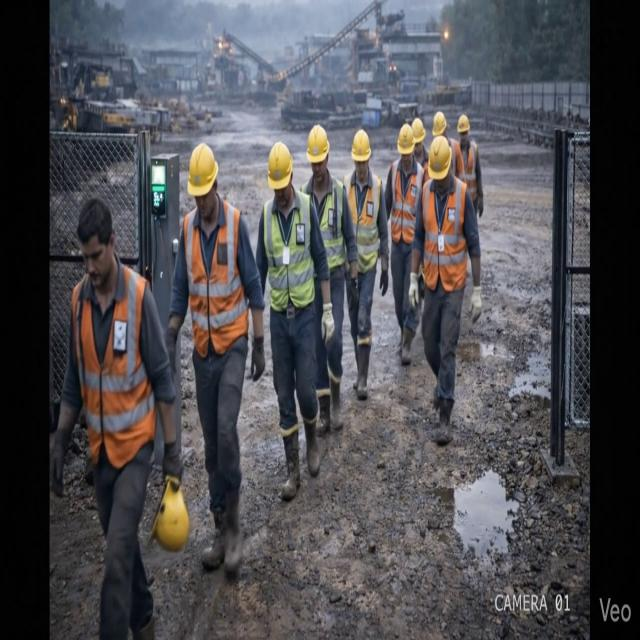Vest: (72, 265, 155, 468), (183, 199, 248, 357), (263, 192, 314, 311), (422, 177, 467, 292), (343, 174, 381, 272), (390, 160, 423, 244), (317, 177, 345, 271), (462, 141, 477, 202), (450, 138, 463, 178)
Worker: (51, 199, 182, 639), (166, 144, 264, 575), (256, 142, 334, 501), (410, 136, 481, 445), (301, 125, 357, 435), (343, 129, 388, 399), (385, 124, 423, 365), (457, 114, 483, 217), (432, 112, 463, 179), (412, 118, 427, 176)
helmet: (151, 477, 189, 551), (188, 144, 218, 196), (268, 142, 292, 190), (428, 136, 452, 180), (307, 125, 329, 163), (352, 129, 370, 161), (397, 124, 414, 154), (432, 111, 447, 137), (412, 118, 425, 143), (457, 114, 469, 133)
